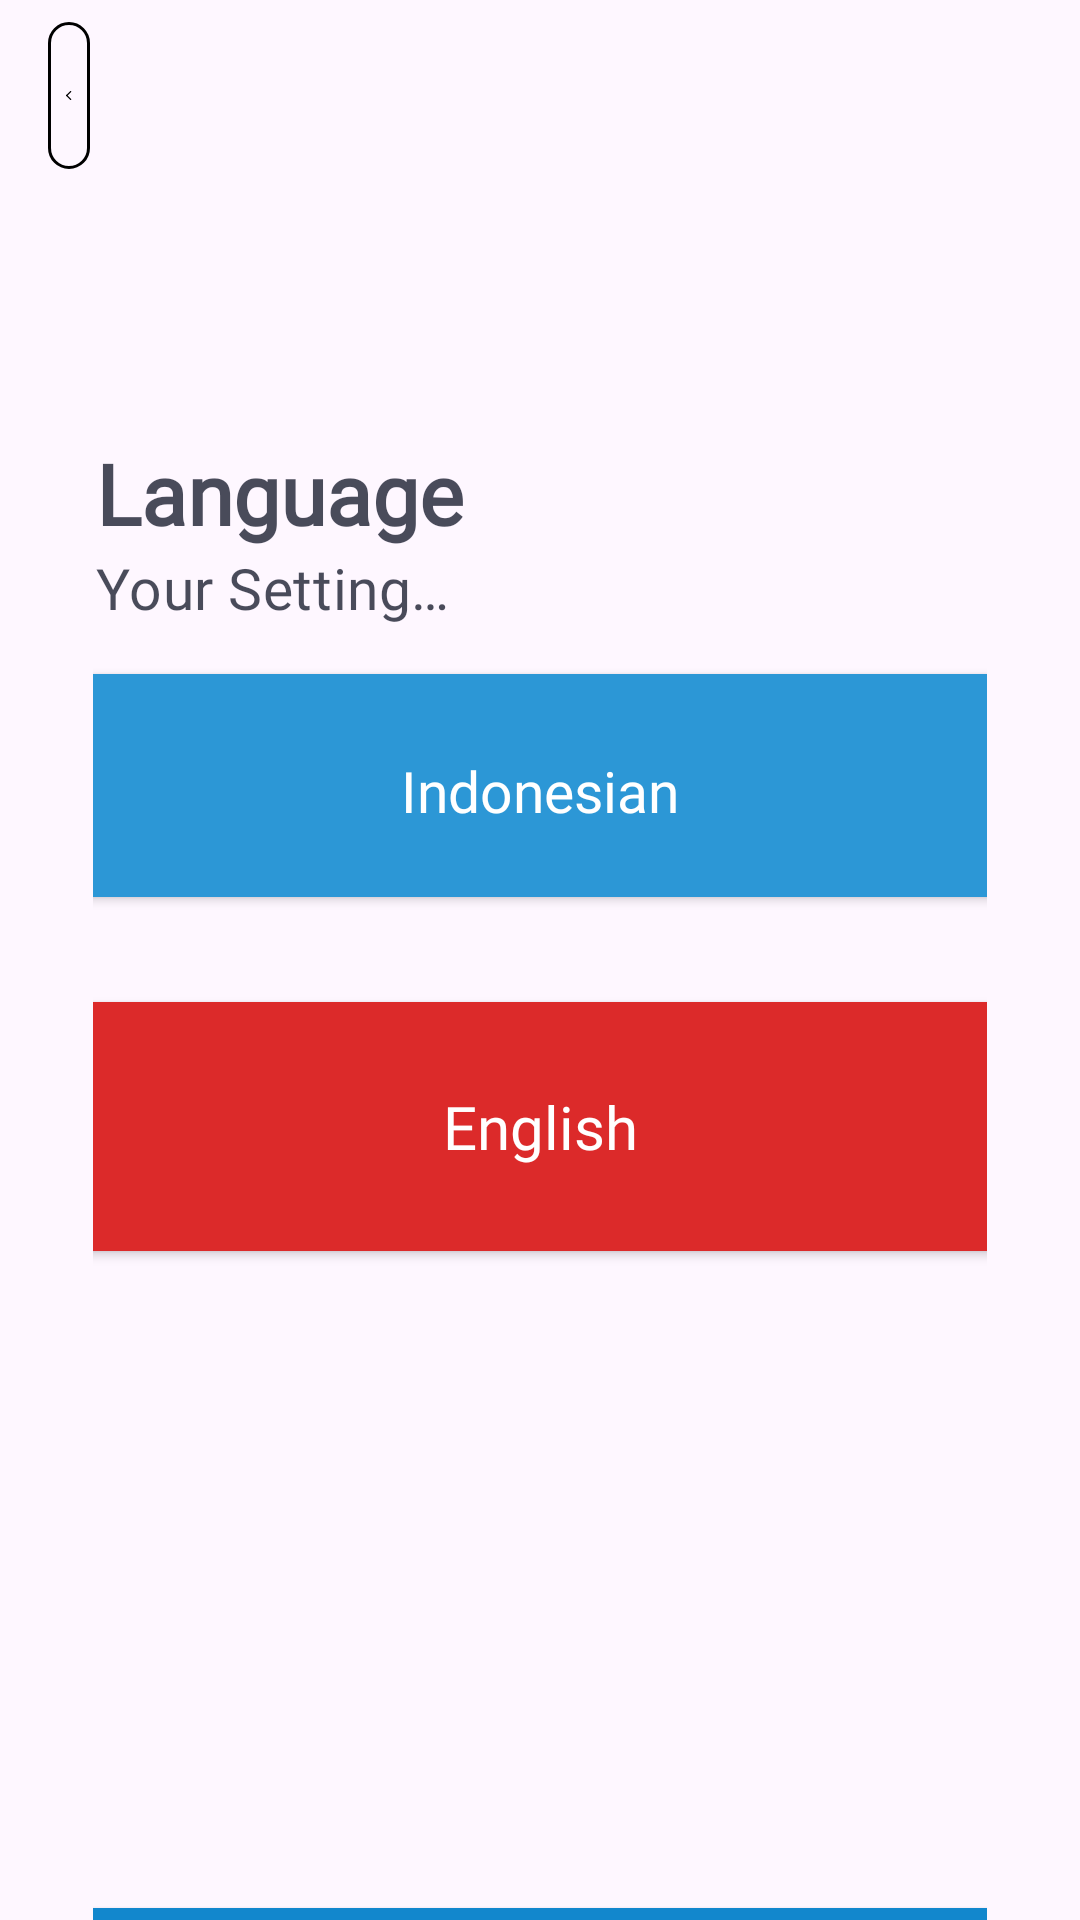

Icon click points for this 1080w x 1920h phone screenshot, format point (x, y):
arrow left: point (69, 95)
